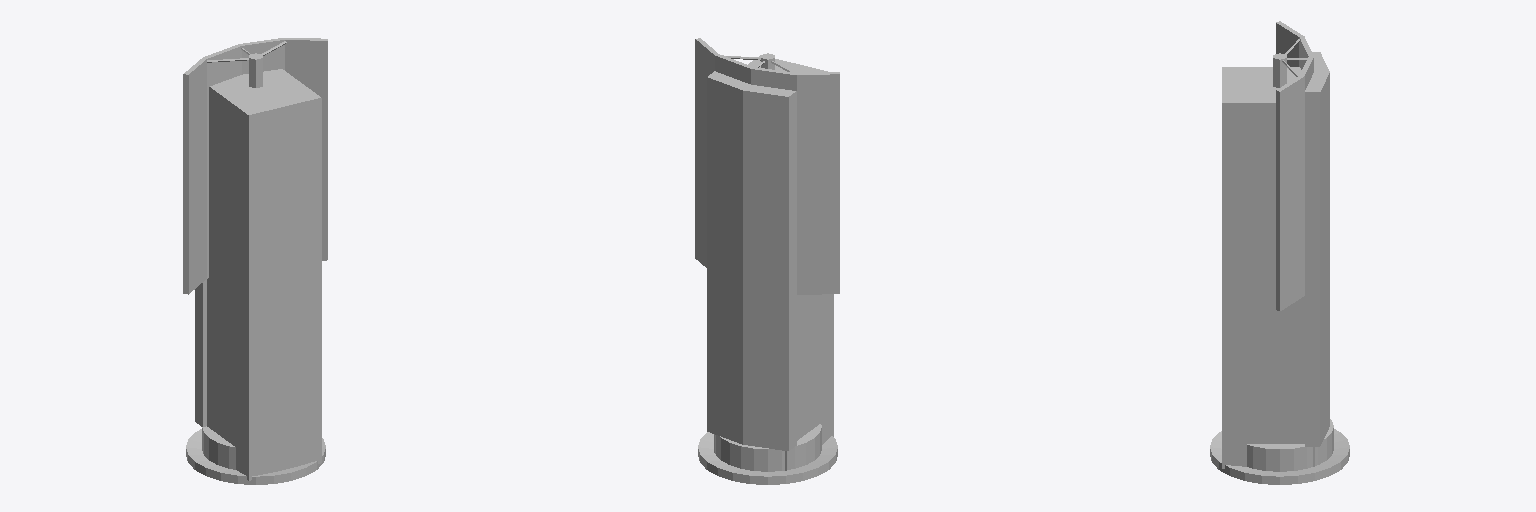
File: AntennaConcept1.obj
3 views of the same model, side by side, from view 1: azimuth 30°, elevation 25°; view 2: azimuth 150°, elevation 25°; view 3: azimuth 270°, elevation 25° (orthographic).
Visible parts, largest first — view 1: Cube.collider_ConvexHull, Dish, TheBase, OuterShell, Cube; view 2: OuterShell, Dish, Cube.collider_ConvexHull, TheBase; view 3: Cube.collider_ConvexHull, OuterShell, Dish, TheBase.
Part boxes in pixels (bbox=[...]): Cube.collider_ConvexHull: bbox=[207, 69, 321, 480]; Dish: bbox=[183, 38, 327, 294]; TheBase: bbox=[186, 426, 325, 484]; OuterShell: bbox=[195, 279, 206, 426]; Cube: bbox=[207, 418, 321, 456]; OuterShell: bbox=[707, 71, 796, 450]; Dish: bbox=[695, 38, 839, 294]; Cube.collider_ConvexHull: bbox=[714, 55, 833, 470]; TheBase: bbox=[698, 424, 837, 484]; Cube.collider_ConvexHull: bbox=[1222, 67, 1314, 468]; OuterShell: bbox=[1305, 52, 1329, 446]; Dish: bbox=[1276, 21, 1313, 310]; TheBase: bbox=[1210, 419, 1349, 484].
Size of the model in its own units: 0.3035 by 0.7985 by 0.2542.